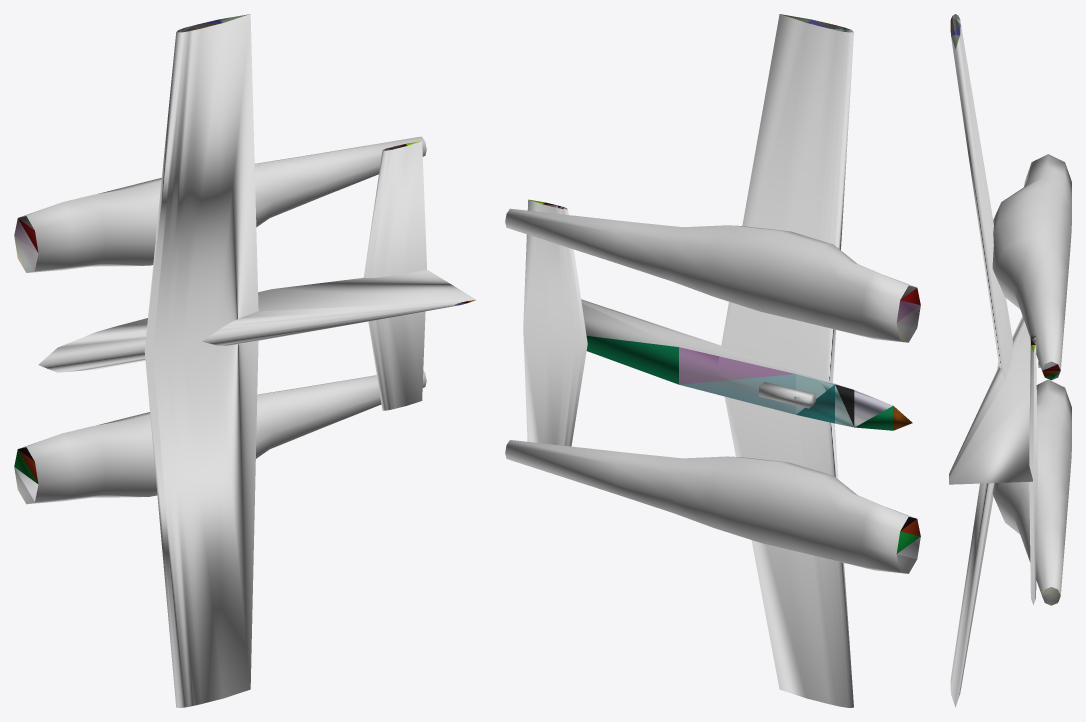
3 renders of one model, left to right at view 1: azimuth 30°, elevation 25°; view 2: azimuth 150°, elevation 25°; view 3: azimuth 270°, elevation 25°, orthographic. The views are drawn at different scales.
Size of the model in its own units: 0.5879 by 0.95 by 0.1608.
